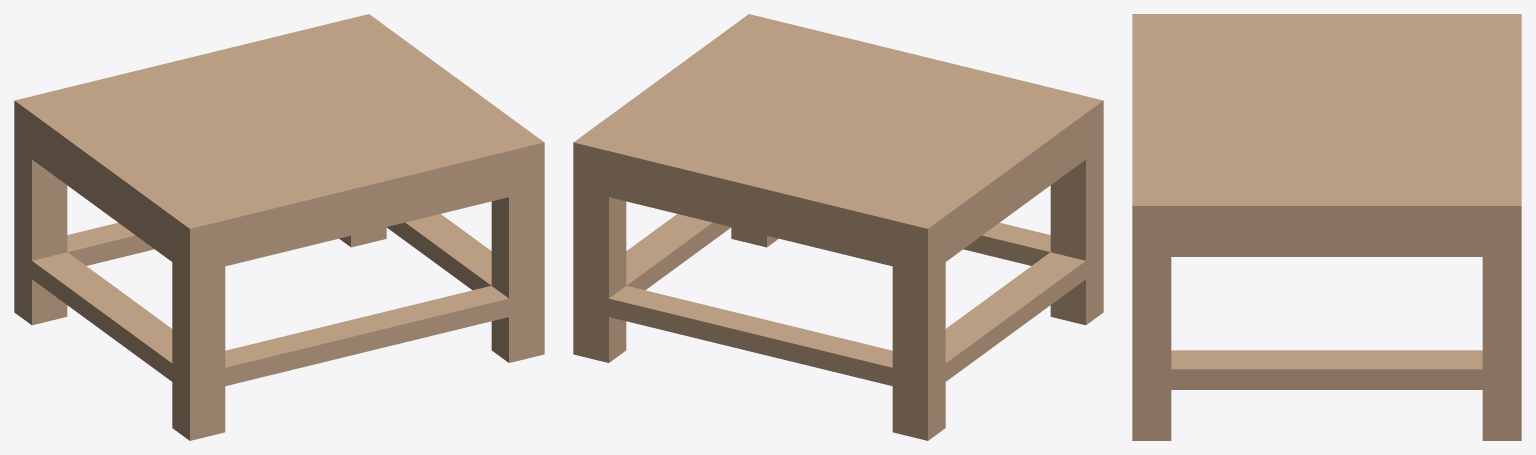
The model's file is coffee-table.glb.
3 renders of one model, left to right at view 1: azimuth 30°, elevation 25°; view 2: azimuth 150°, elevation 25°; view 3: azimuth 270°, elevation 25°, orthographic. The views are drawn at different scales.
Visible parts, largest first — view 1: coffee-table; view 2: coffee-table; view 3: coffee-table.
Part boxes in pixels (x1=…): coffee-table: x1=14, y1=14, x2=544, y2=440; coffee-table: x1=573, y1=14, x2=1103, y2=440; coffee-table: x1=1132, y1=14, x2=1521, y2=440.
Size of the model in its own units: 0.7 by 0.4 by 0.6.
